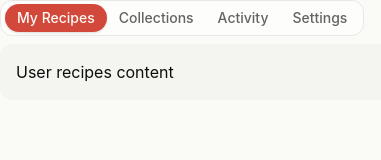
Test: Tabs Components › Recipe App Use Cases › renders user profile tabs correctly
Expected: the text "User recipes content" is shown, [16,62,174,82]
Step 1. Click the tab "Collections" → coordinates (156, 18), box [107,4,206,32]
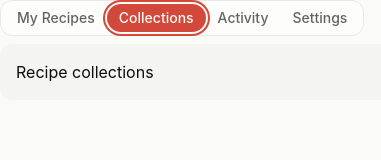
Expected: the text "Recipe collections" is shown, [16,62,154,82]
Expected: the text "User recipes content" is gone
